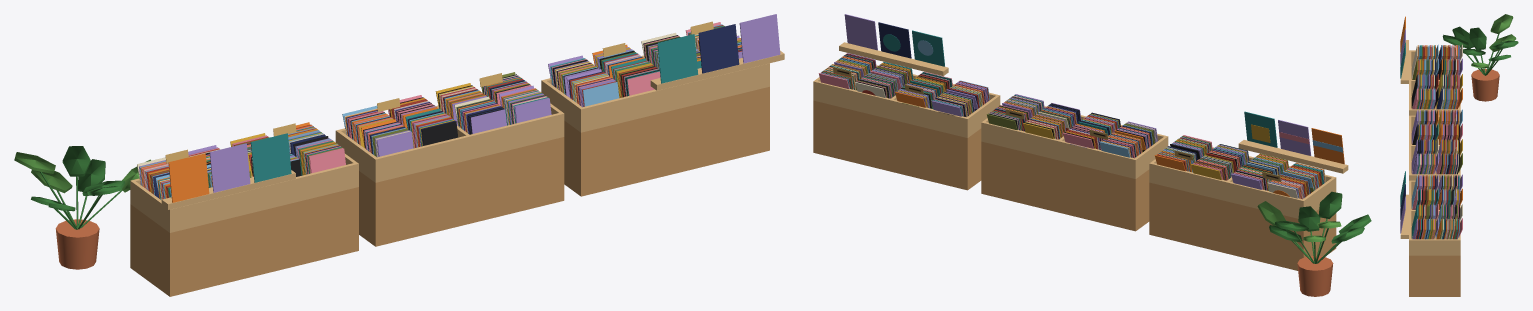
Rendered from RecordShop_Front.obj.
The picture shows the model from 3 angles, left to right: view 1: azimuth 30°, elevation 25°; view 2: azimuth 150°, elevation 25°; view 3: azimuth 270°, elevation 25°; orthographic projection. The views are drawn at different scales.
Parts seen in each view (by area): view 1: RecordShop_Front; view 2: RecordShop_Front; view 3: RecordShop_Front.
Boxes of the visible parts, x1,y1,x2,y2 form: RecordShop_Front: (14, 14, 784, 296); RecordShop_Front: (813, 14, 1371, 296); RecordShop_Front: (1400, 14, 1518, 296).
Bounding box in the file's own units: 6.24 × 1.18 × 1.42.
